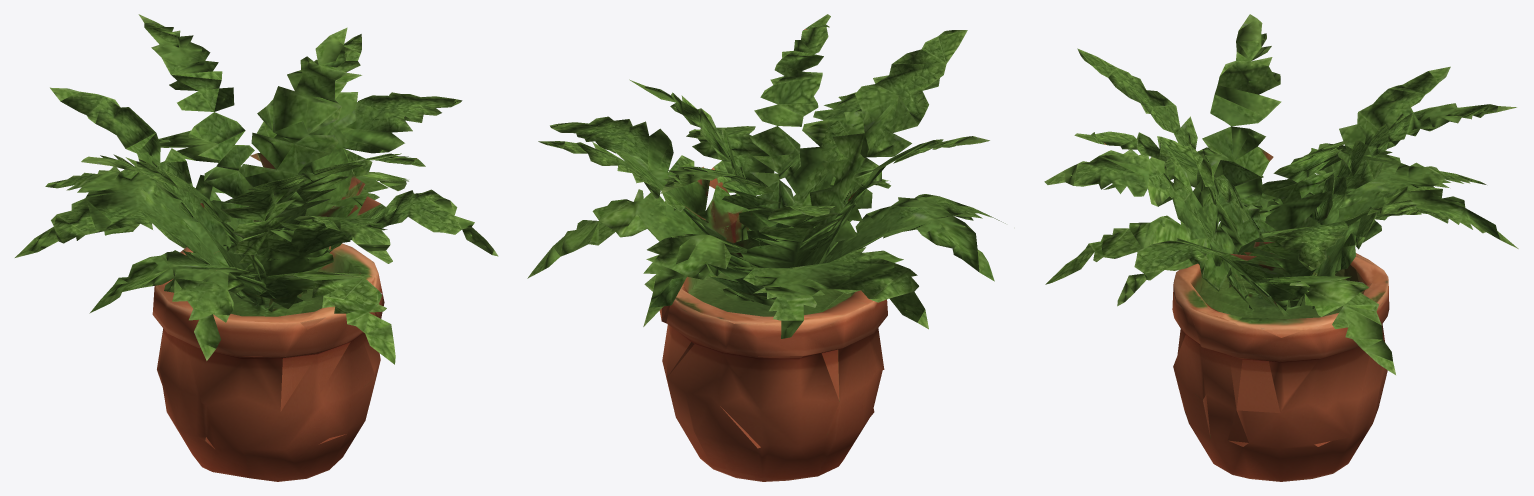
File: Decor_PottedFern.fbx
The picture shows the model from 3 angles, left to right: view 1: azimuth 30°, elevation 25°; view 2: azimuth 150°, elevation 25°; view 3: azimuth 270°, elevation 25°; orthographic projection. The views are drawn at different scales.
Visible parts, largest first — view 1: Mesh_0; view 2: Mesh_0; view 3: Mesh_0.
Part boxes in pixels (<box>): Mesh_0: <box>15,14,498,481</box>; Mesh_0: <box>527,14,1005,481</box>; Mesh_0: <box>1044,14,1518,481</box>.
Size of the model in its own units: 184 by 157 by 188.
Materials: 1 (1 with a texture image).
